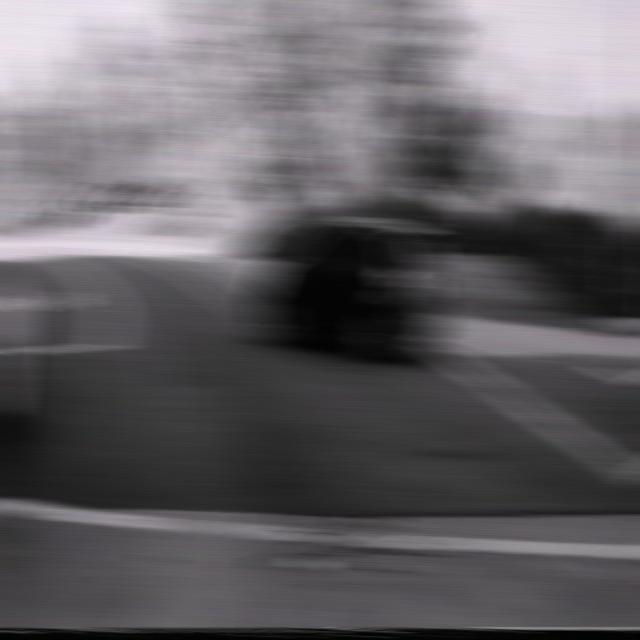pedestrianCrossing: (48, 172, 82, 202)
